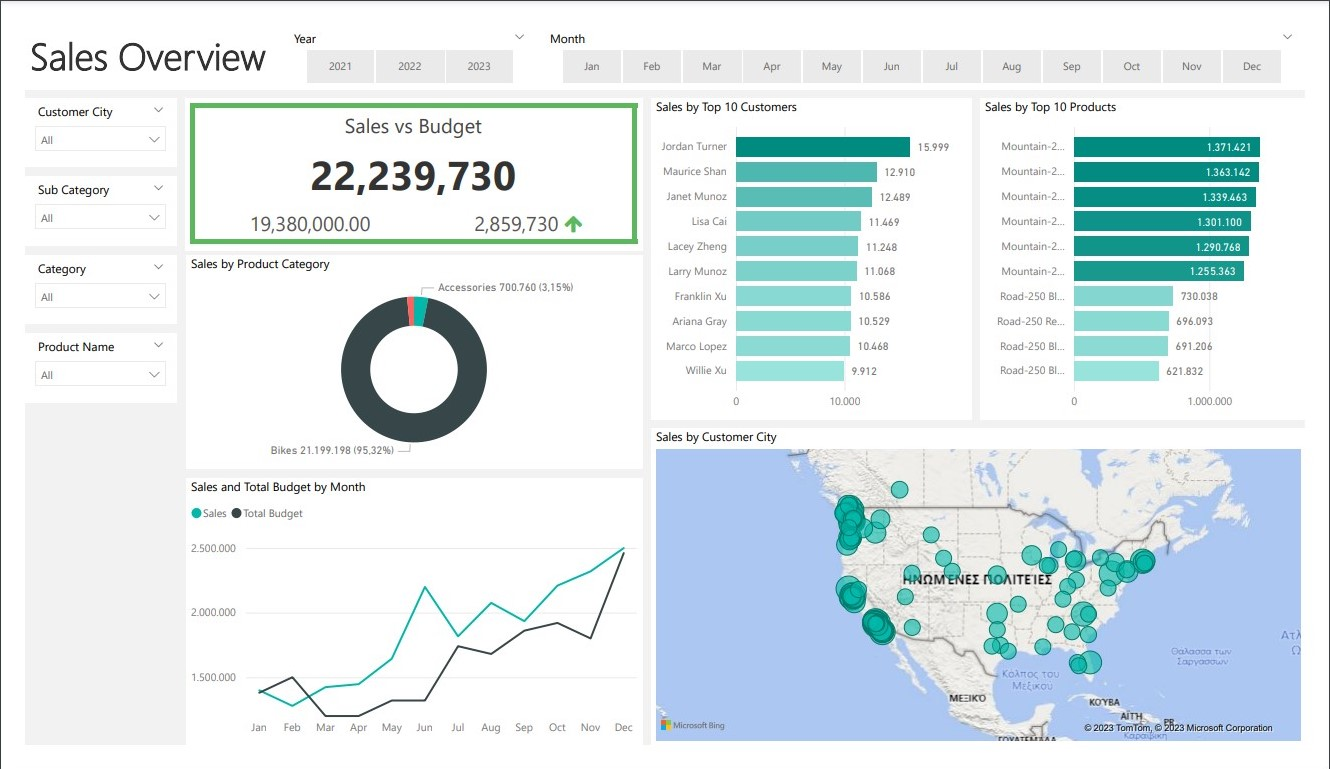

What the dashboard file says about the page in this screenshot:
{"tool":"powerbi","page":{"name":"Sales Overview","canvas":[1280,720],"ordinal":0},"visuals":[{"type":"textbox","box":[0,0,1280,64],"z":0},{"type":"slicer","fields":{"Values":["DIM_Calendar.Year"]},"box":[255.9,0,255.9,63.8],"z":1000},{"type":"slicer","fields":{"Values":["DIM_Calendar.MonthShort"]},"box":[512,0,768,64],"z":2000},{"type":"slicer","fields":{"Values":["DIM_Customers.Customer City"]},"box":[0,73,150.5,69.3],"z":3000},{"type":"slicer","fields":{"Values":["DIM_Products.Product Category"]},"box":[0,229.9,150.5,69.3],"z":4000},{"type":"slicer","fields":{"Values":["DIM_Products.Product Name"]},"box":[0,308.4,150.5,69.3],"z":5000},{"type":"slicer","fields":{"Values":["DIM_Products.Sub Category"]},"box":[0,151.4,150.5,69.3],"z":6000},{"type":"barChart","title":"Sales by Top 10 Products","fields":{"Category":["DIM_Products.Product Name"],"Y":["Key_Measures.Sales"]},"box":[955.2,73,324.8,321.1],"z":7000},{"type":"lineChart","fields":{"Category":["DIM_Calendar.MonthShort"],"Y":["Key_Measures.Sales","Key_Measures.Total Budget"]},"box":[160.7,452.8,456.3,267.2],"z":8000},{"type":"clusteredBarChart","title":"Sales by Top 10 Customers","fields":{"Category":["DIM_Customers.Full Name"],"Y":["Key_Measures.Sales"]},"box":[625.9,73,320.2,321.1],"z":9000},{"type":"donutChart","fields":{"Series":["DIM_Products.Product Category"],"Y":["Key_Measures.Sales"]},"box":[160.6,229.9,456.2,213.5],"z":10000},{"type":"map","fields":{"Category":["DIM_Customers.Customer City"],"Size":["Key_Measures.Sales"]},"box":[625.9,403.3,654.1,316.6],"z":12000},{"type":"BBED0A4D4D8D44CE93CF2DAFADEE466C","fields":{"actual":["Key_Measures.Sales"],"target1":["Key_Measures.Total Budget"],"target2":["Key_Measures.Sales-Budget"]},"box":[160.5,73.4,456.6,151.3],"z":13001}]}

Visuals, with their boxes on the page's 1280x720 design canvas (x1, y1, x2, y2). These are canvas units, not pixel positions in the 1330x769 screenshot, which may show the page scaled, cropped or inside an application window:
textbox: box=[0, 0, 1280, 64]
slicer - DIM_Calendar.Year: box=[256, 0, 512, 64]
slicer - DIM_Calendar.MonthShort: box=[512, 0, 1280, 64]
slicer - DIM_Customers.Customer City: box=[0, 73, 150, 142]
slicer - DIM_Products.Product Category: box=[0, 230, 150, 299]
slicer - DIM_Products.Product Name: box=[0, 308, 150, 378]
slicer - DIM_Products.Sub Category: box=[0, 151, 150, 221]
"Sales by Top 10 Products" barChart: box=[955, 73, 1280, 394]
lineChart - DIM_Calendar.MonthShort x Key_Measures.Sales: box=[161, 453, 617, 720]
"Sales by Top 10 Customers" clusteredBarChart: box=[626, 73, 946, 394]
donutChart - DIM_Products.Product Category x Key_Measures.Sales: box=[161, 230, 617, 443]
map - DIM_Customers.Customer City x Key_Measures.Sales: box=[626, 403, 1280, 720]
BBED0A4D4D8D44CE93CF2DAFADEE466C - Key_Measures.Sales x Key_Measures.Total Budget: box=[160, 73, 617, 225]
